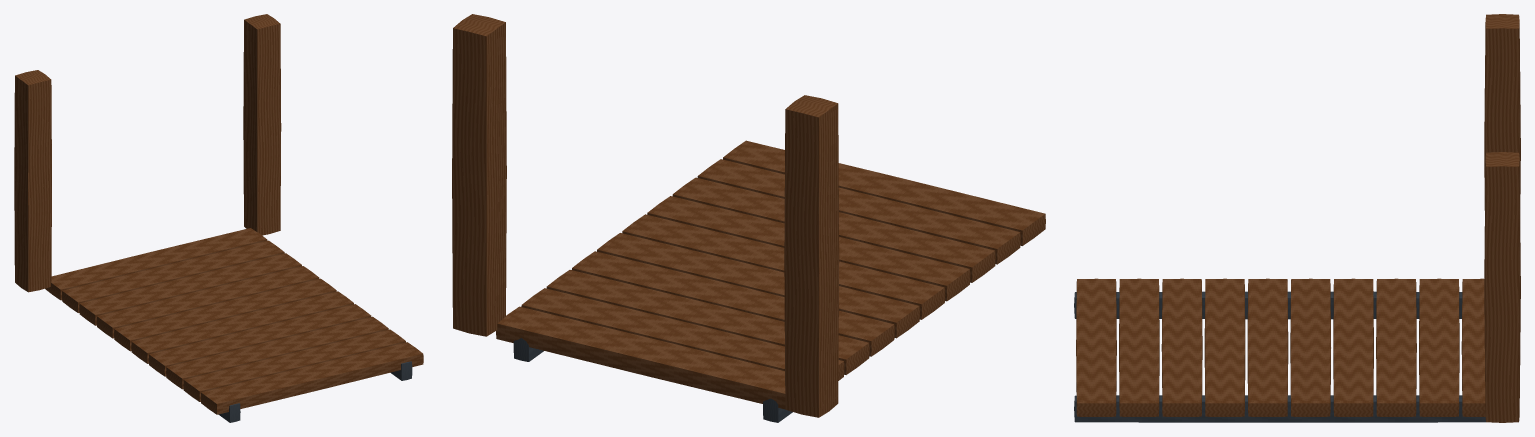
The picture shows the model from 3 angles, left to right: view 1: azimuth 30°, elevation 25°; view 2: azimuth 150°, elevation 25°; view 3: azimuth 270°, elevation 25°; orthographic projection. The views are drawn at different scales.
Visible parts, largest first — view 1: wood.0, wood.1, wood.11, wood.5, wood.6, wood.7, wood.8, wood.10, wood.3, wood.4, wood.9, wood.2; view 2: wood.0, wood.1, wood.2, wood.11, wood.4, wood.5, wood.10, wood.9, wood.6, wood.8, wood.7, wood.3; view 3: wood.1, wood.11, wood.4, wood.5, wood.10, wood.3, wood.7, wood.8, wood.9, wood.6, wood.0, iron.13 (+2 smaller).
Part boxes in pixels (x1=…): wood.0: x1=14, y1=70, x2=51, y2=292; wood.1: x1=243, y1=14, x2=281, y2=235; wood.11: x1=201, y1=342, x2=423, y2=414; wood.5: x1=96, y1=266, x2=319, y2=338; wood.6: x1=114, y1=278, x2=336, y2=351; wood.7: x1=131, y1=291, x2=353, y2=363; wood.8: x1=148, y1=304, x2=371, y2=376; wood.10: x1=183, y1=329, x2=405, y2=401; wood.3: x1=62, y1=240, x2=284, y2=312; wood.4: x1=79, y1=253, x2=301, y2=325; wood.9: x1=166, y1=316, x2=388, y2=389; wood.2: x1=45, y1=228, x2=267, y2=300; wood.0: x1=784, y1=95, x2=839, y2=417; wood.1: x1=452, y1=14, x2=506, y2=336; wood.2: x1=496, y1=306, x2=785, y2=409; wood.11: x1=723, y1=140, x2=1045, y2=245; wood.4: x1=546, y1=270, x2=869, y2=374; wood.5: x1=572, y1=251, x2=894, y2=356; wood.10: x1=697, y1=159, x2=1020, y2=264; wood.9: x1=672, y1=177, x2=995, y2=282; wood.6: x1=597, y1=233, x2=919, y2=338; wood.8: x1=647, y1=196, x2=970, y2=301; wood.7: x1=622, y1=214, x2=945, y2=319; wood.3: x1=521, y1=288, x2=844, y2=380; wood.1: x1=1484, y1=152, x2=1520, y2=422; wood.11: x1=1076, y1=278, x2=1116, y2=416; wood.4: x1=1376, y1=278, x2=1416, y2=416; wood.5: x1=1333, y1=278, x2=1373, y2=416; wood.10: x1=1119, y1=278, x2=1159, y2=416; wood.3: x1=1419, y1=278, x2=1459, y2=416; wood.7: x1=1247, y1=278, x2=1288, y2=416; wood.8: x1=1204, y1=278, x2=1245, y2=416; wood.9: x1=1161, y1=278, x2=1202, y2=416; wood.6: x1=1290, y1=278, x2=1330, y2=416; wood.0: x1=1484, y1=14, x2=1520, y2=210; iron.13: x1=1074, y1=395, x2=1485, y2=422.
Size of the model in its own units: 1.78 by 1.51 by 2.19.
Materials: 2 (2 with a texture image).
